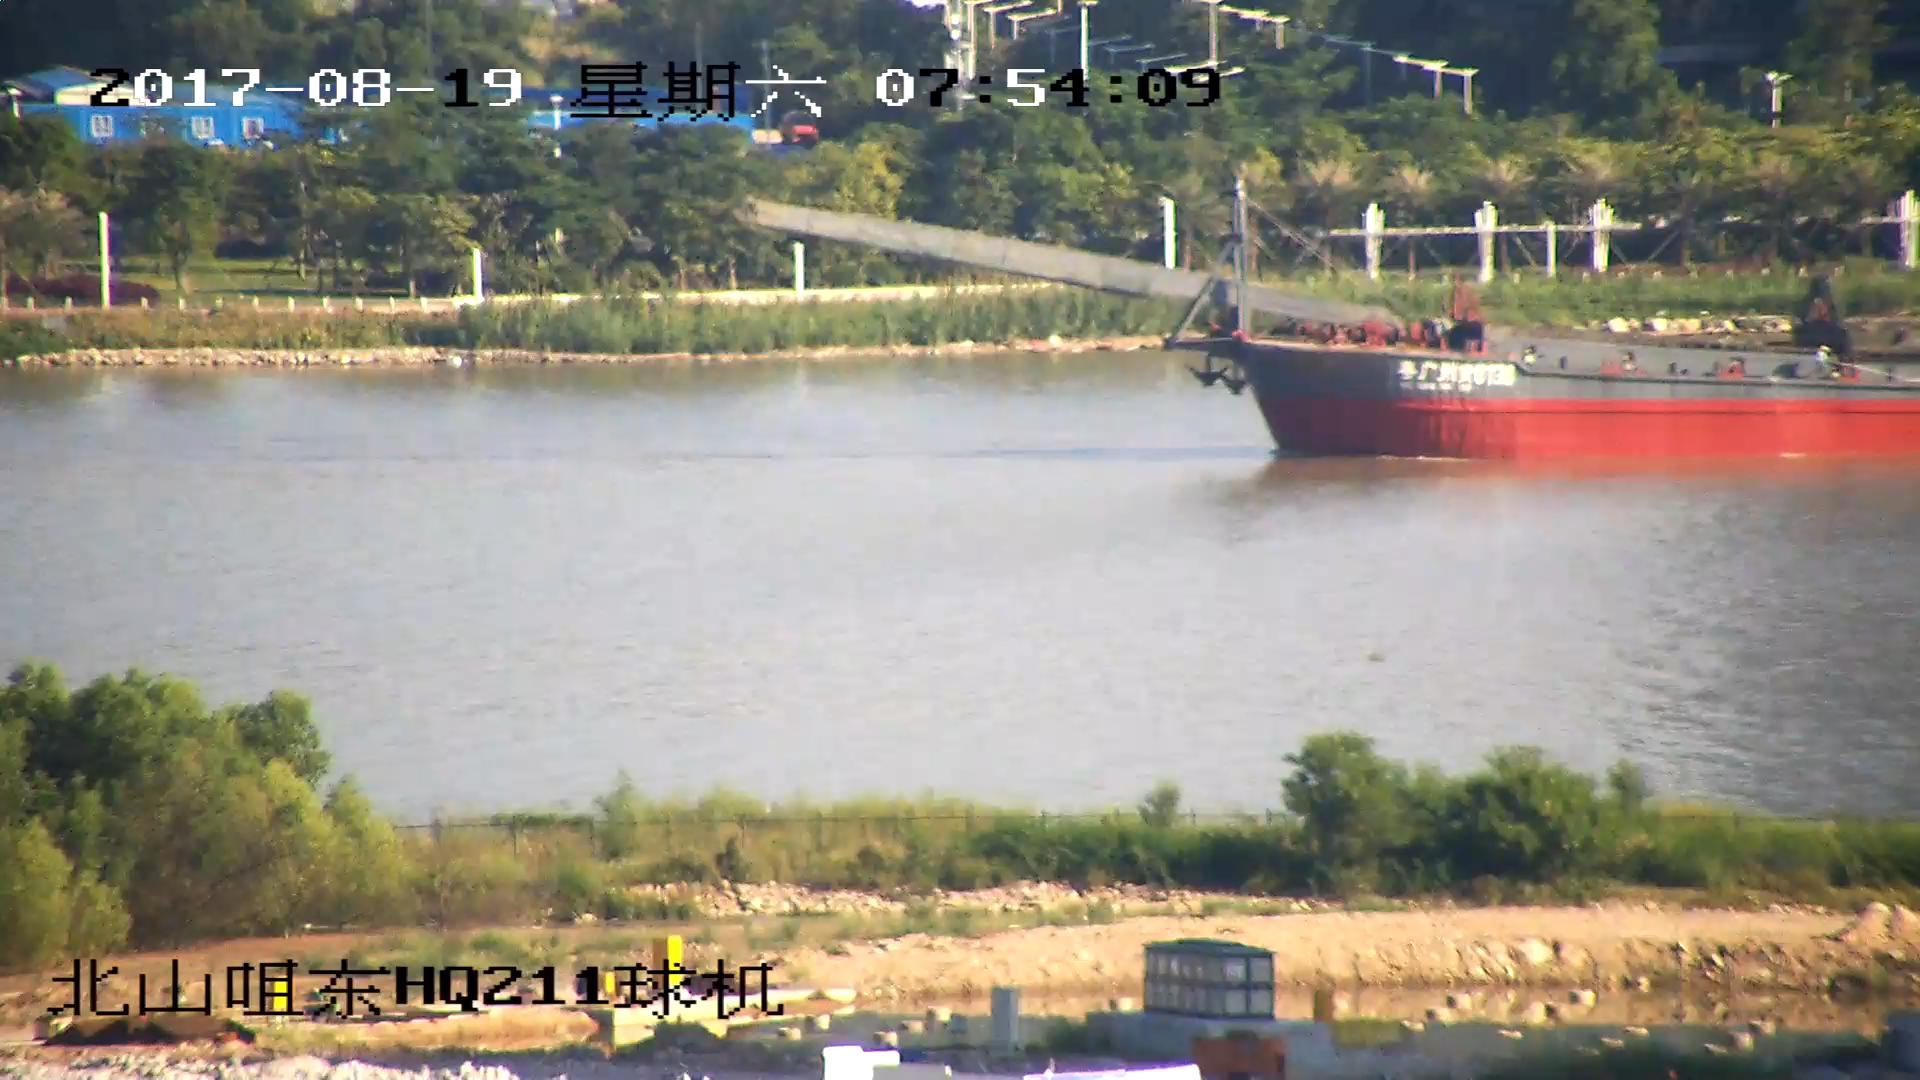bulk cargo carrier: (737, 186, 1920, 459)
